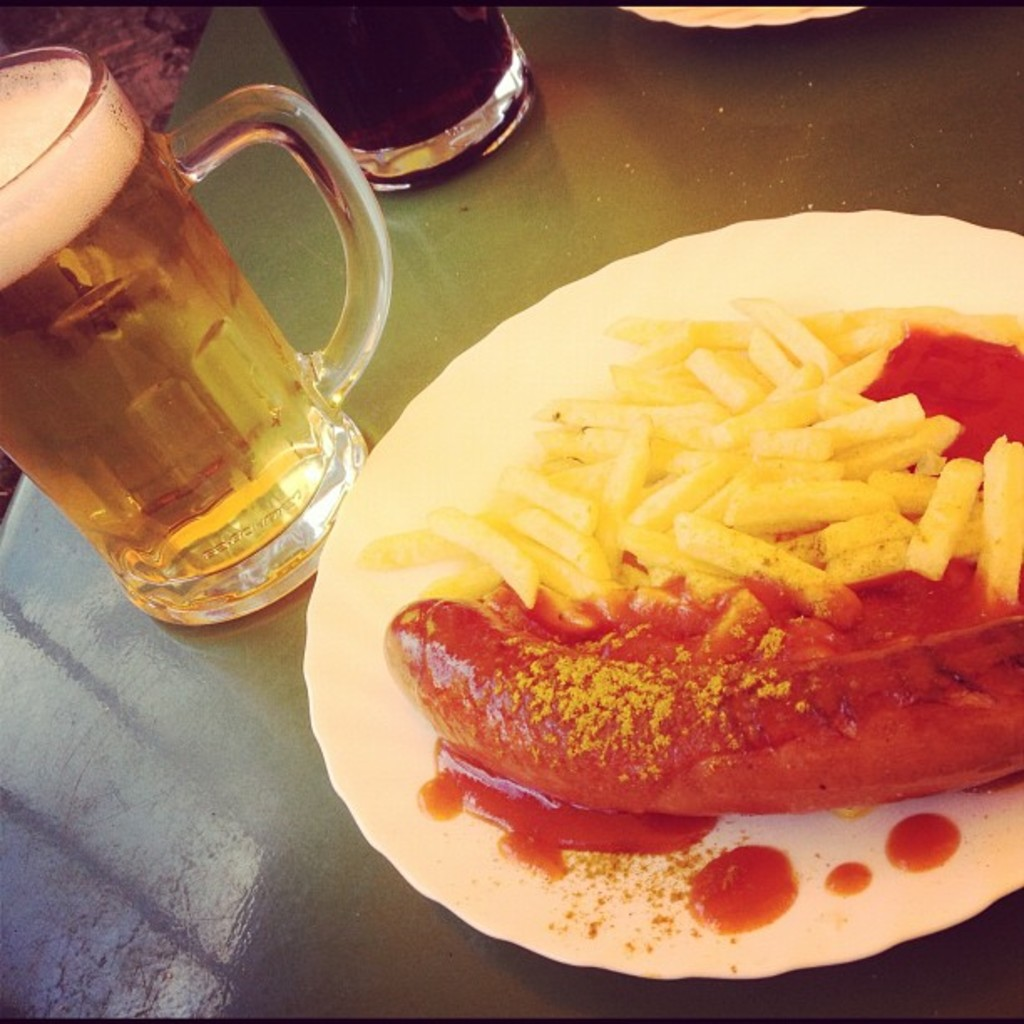French fries: (343, 296, 1005, 609)
